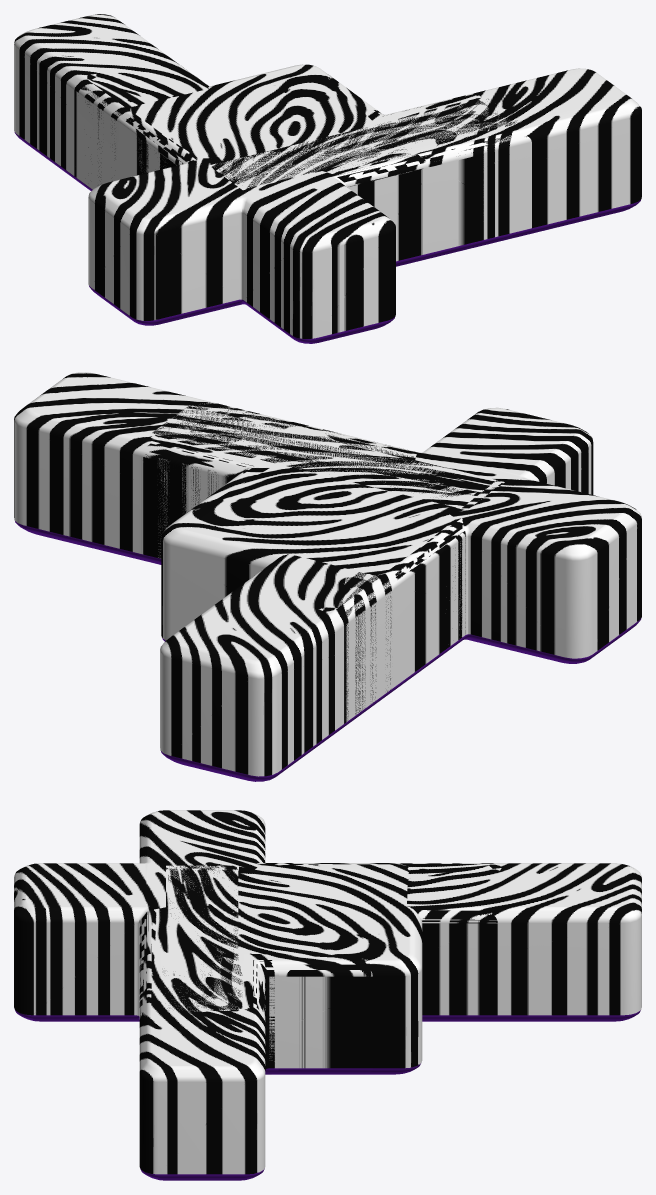
Rendered from Purple.fbx.
3 views of the same model, one above another, from view 1: azimuth 30°, elevation 25°; view 2: azimuth 150°, elevation 25°; view 3: azimuth 270°, elevation 25° (orthographic). The views are drawn at different scales.
Parts seen in each view (by area): view 1: Block_6, Block_4, Block_9, Block_3, Block_1, Block_5, Block_7, Block_8, Block_2; view 2: Block_6, Block_9, Block_4, Block_1, Block_5, Block_8, Block_7, Block_3; view 3: Block_4, Block_1, Block_6, Block_9, Block_7, Block_5, Block_3, Block_8.
Part boxes in pixels (x1,y1,x2,y2): Block_6: (88, 121, 427, 343); Block_4: (209, 68, 641, 264); Block_9: (14, 14, 208, 190); Block_3: (209, 94, 531, 264); Block_1: (122, 64, 398, 177); Block_5: (212, 77, 528, 264); Block_7: (74, 67, 425, 266); Block_8: (118, 106, 382, 179); Block_2: (344, 162, 430, 265); Block_6: (323, 407, 641, 675); Block_9: (160, 525, 463, 781); Block_4: (14, 372, 504, 561); Block_1: (161, 447, 476, 641); Block_5: (139, 406, 501, 564); Block_8: (240, 466, 465, 690); Block_7: (252, 532, 465, 723); Block_3: (139, 401, 502, 564); Block_4: (139, 866, 265, 1180); Block_1: (197, 864, 422, 1074); Block_6: (14, 810, 370, 1021); Block_9: (399, 863, 641, 1021); Block_7: (141, 864, 501, 1021); Block_5: (143, 866, 372, 1074); Block_3: (139, 865, 265, 1019); Block_8: (253, 863, 408, 1074).
Size of the model in its own units: 5 by 1 by 5.
Materials: 2 (2 with a texture image).
